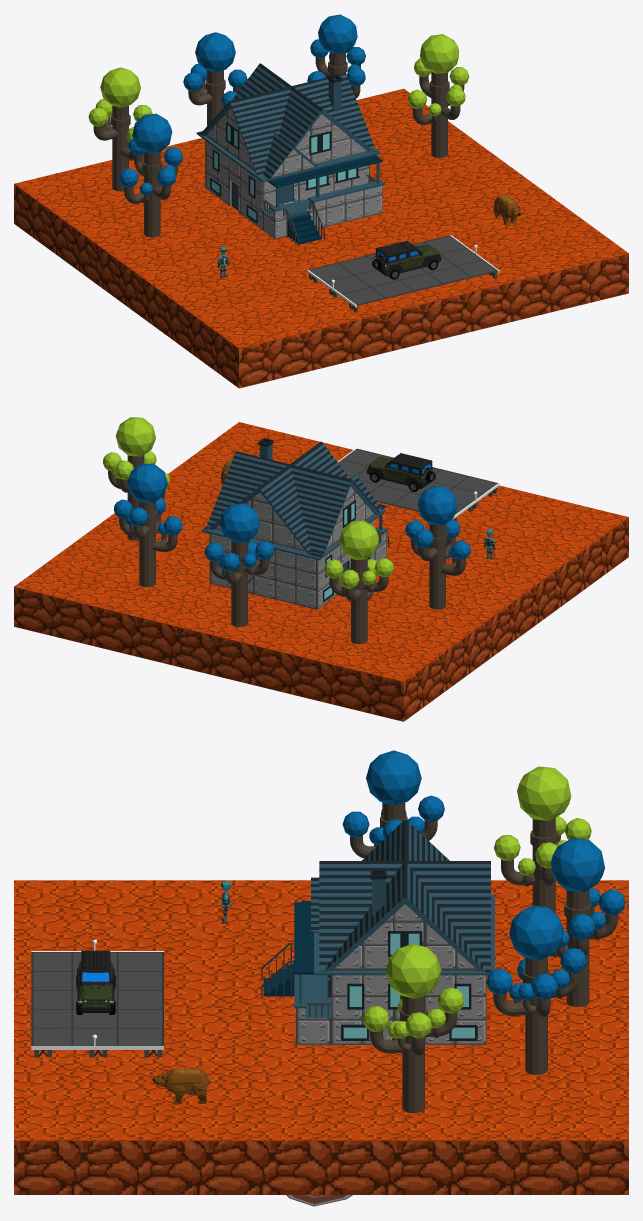
3 renders of one model, top to bottom at view 1: azimuth 30°, elevation 25°; view 2: azimuth 150°, elevation 25°; view 3: azimuth 270°, elevation 25°, orthographic. The views are drawn at different scales.
Parts seen in each view (by area): view 1: Cube.001, Cube.078, VEHICLES_JEEP, ANIMAL_OSO; view 2: Cube.001, Cube.078, VEHICLES_JEEP; view 3: Cube.001, Cube.078, VEHICLES_JEEP, ANIMAL_OSO.
Part boxes in pixels (x1,y1,x2,y2): Cube.001: (14,14,628,388); Cube.078: (196,63,385,245); VEHICLES_JEEP: (372,240,441,279); ANIMAL_OSO: (493,195,521,225); Cube.001: (14,417,628,721); Cube.078: (201,438,389,609); VEHICLES_JEEP: (366,453,435,491); Cube.001: (14,750,628,1194); Cube.078: (261,820,494,1044); VEHICLES_JEEP: (76,950,115,1014); ANIMAL_OSO: (152,1068,210,1104).
Bounding box in the file's own units: 4000 × 2380 × 4000.
Materials: 38 (6 with a texture image).
